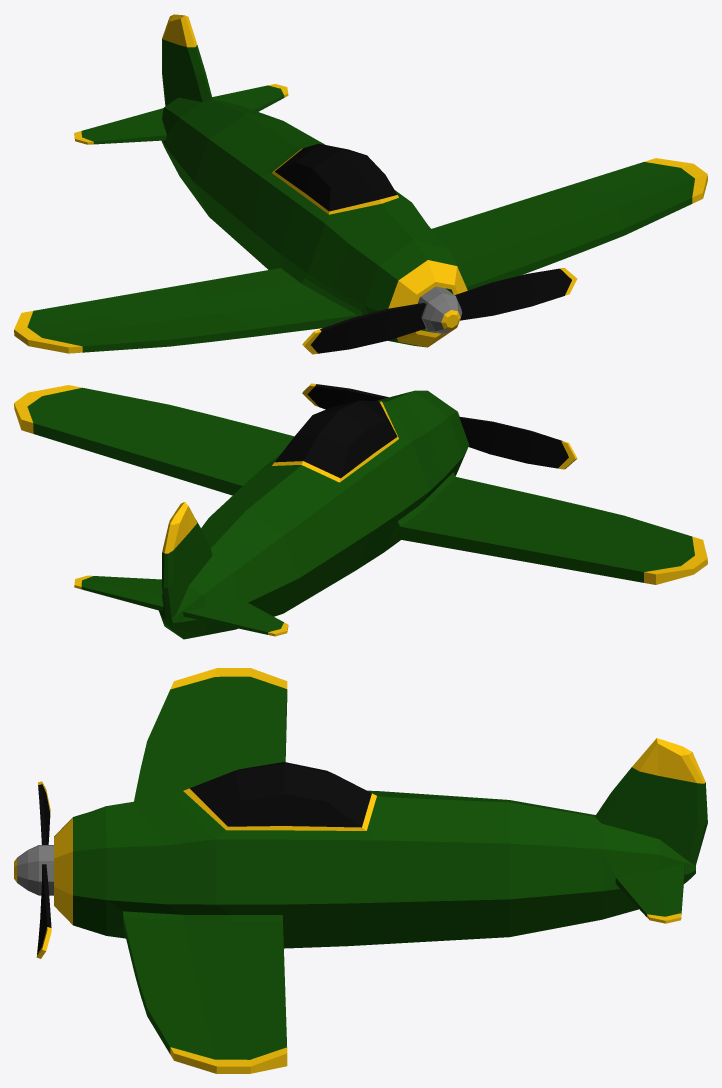
3 renders of one model, top to bottom at view 1: azimuth 30°, elevation 25°; view 2: azimuth 150°, elevation 25°; view 3: azimuth 270°, elevation 25°, orthographic. The views are drawn at different scales.
Visible parts, largest first — view 1: Fuselagem, Helice; view 2: Fuselagem, Helice; view 3: Fuselagem, Helice.
Boxes of the visible parts, x1,y1,x2,y2 form: Fuselagem: [14, 14, 707, 353]; Helice: [302, 268, 577, 354]; Fuselagem: [14, 385, 707, 639]; Helice: [302, 383, 577, 469]; Fuselagem: [54, 668, 707, 1073]; Helice: [14, 781, 53, 958].
Size of the model in its own units: 12.92 by 3.14 by 9.51.
